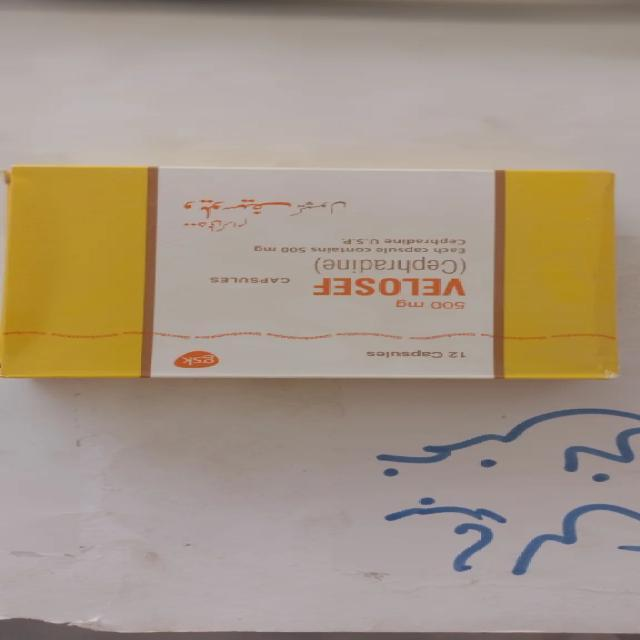drug-name: (308, 276, 466, 300)
